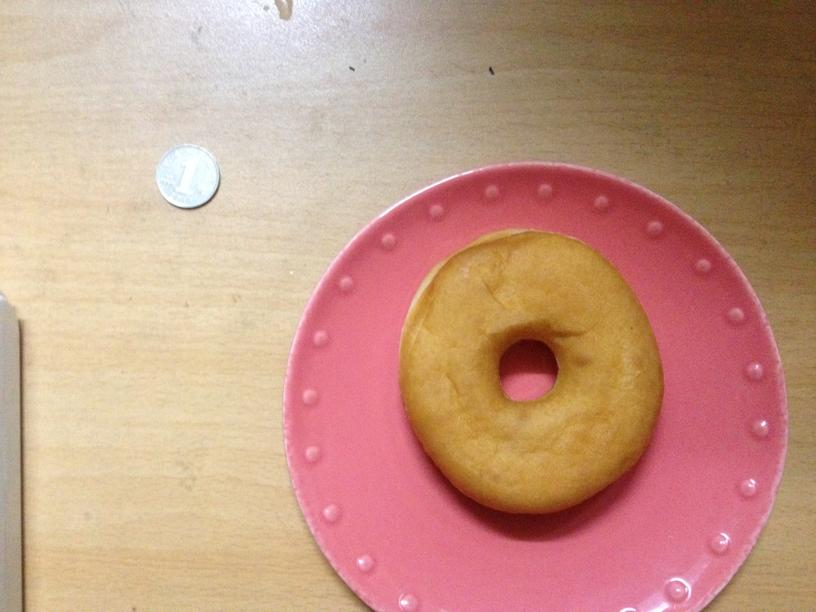coin: (152, 144, 221, 209)
doughnut: (403, 228, 663, 515)
